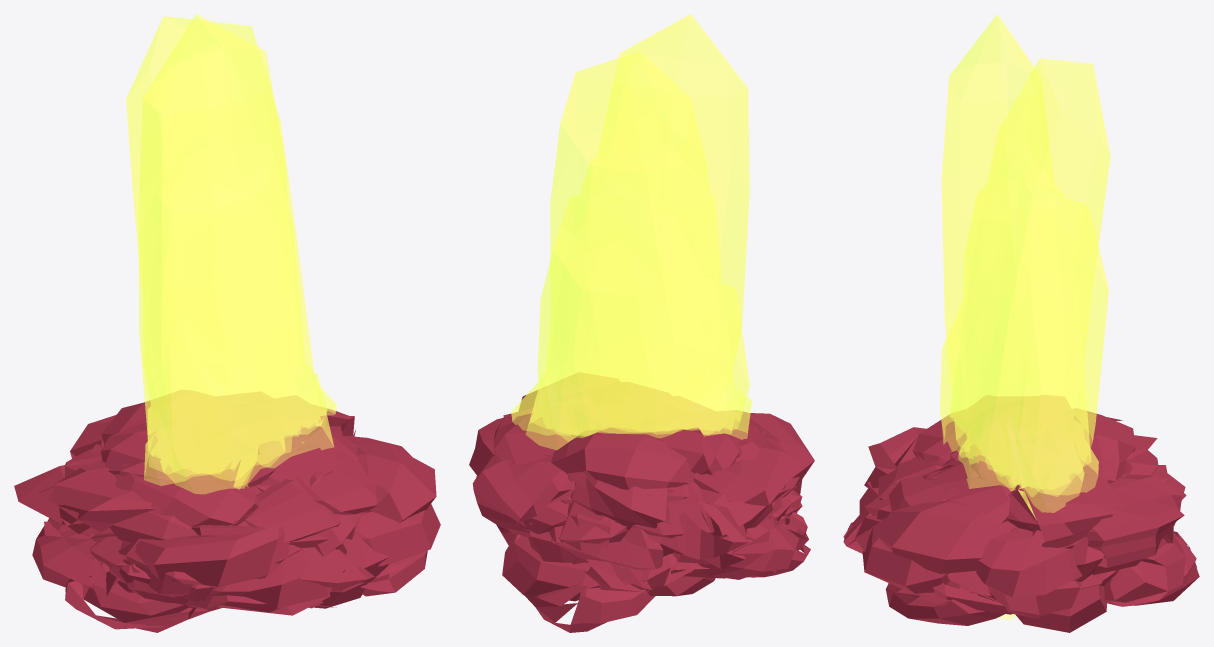
File: XRYSTAL42.gltf
3 views of the same model, side by side, from view 1: azimuth 30°, elevation 25°; view 2: azimuth 150°, elevation 25°; view 3: azimuth 270°, elevation 25° (orthographic). The views are drawn at different scales.
Parts seen in each view (by area): view 1: Circle, Cube.001; view 2: Circle, Cube.001; view 3: Circle, Cube.001.
Part boxes in pixels (box(x1,y1,x2,y2)): Circle: box(126, 14, 336, 493); Cube.001: box(14, 400, 440, 632); Circle: box(511, 14, 752, 449); Cube.001: box(469, 390, 814, 632); Circle: box(940, 14, 1110, 620); Cube.001: box(843, 411, 1199, 632).
Bounding box in the file's own units: 2.79 × 4.51 × 2.59.
